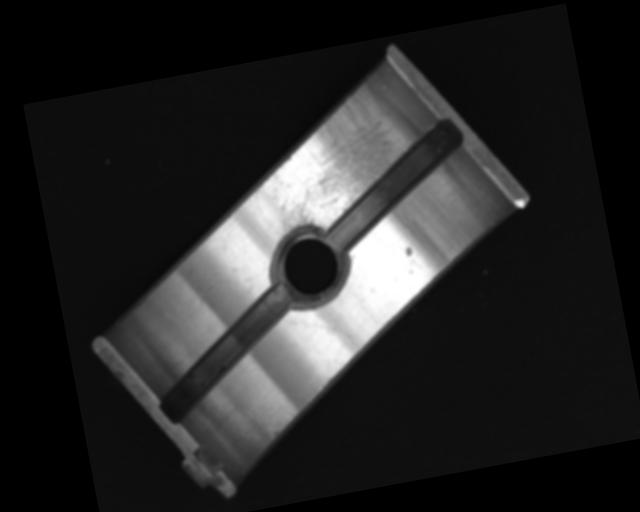bruise: (403, 244, 413, 257)
gap: (142, 281, 313, 426), (312, 116, 477, 252)
hole: (263, 218, 355, 310)
scratch: (251, 81, 410, 243)
